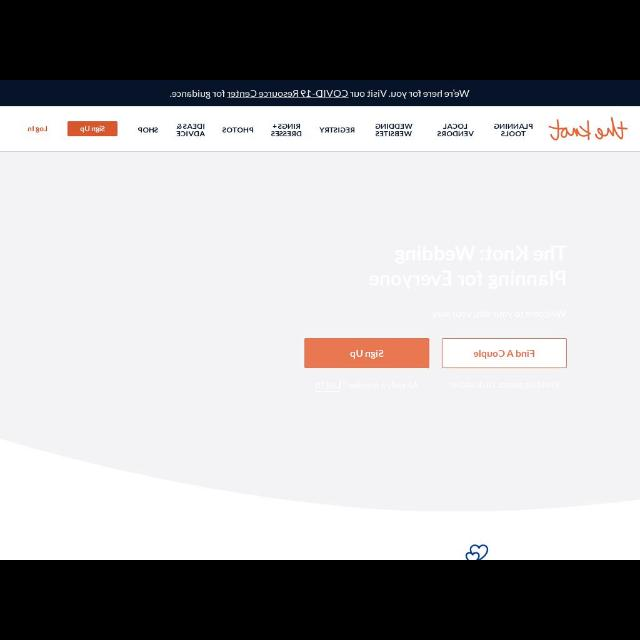backgroundimage: (4, 153, 638, 559)
image: (546, 116, 628, 144)
link: (224, 88, 350, 100)
text: (162, 86, 474, 102), (374, 119, 414, 138), (493, 120, 533, 138), (435, 120, 475, 138), (474, 347, 534, 359), (172, 120, 208, 138), (269, 119, 303, 137), (316, 124, 358, 136), (218, 124, 254, 136), (350, 348, 384, 360), (138, 124, 160, 136), (24, 124, 48, 134), (80, 125, 106, 133)
textbutton: (438, 336, 570, 370), (303, 338, 429, 368), (66, 121, 116, 137)
toolbar: (2, 106, 640, 152)
